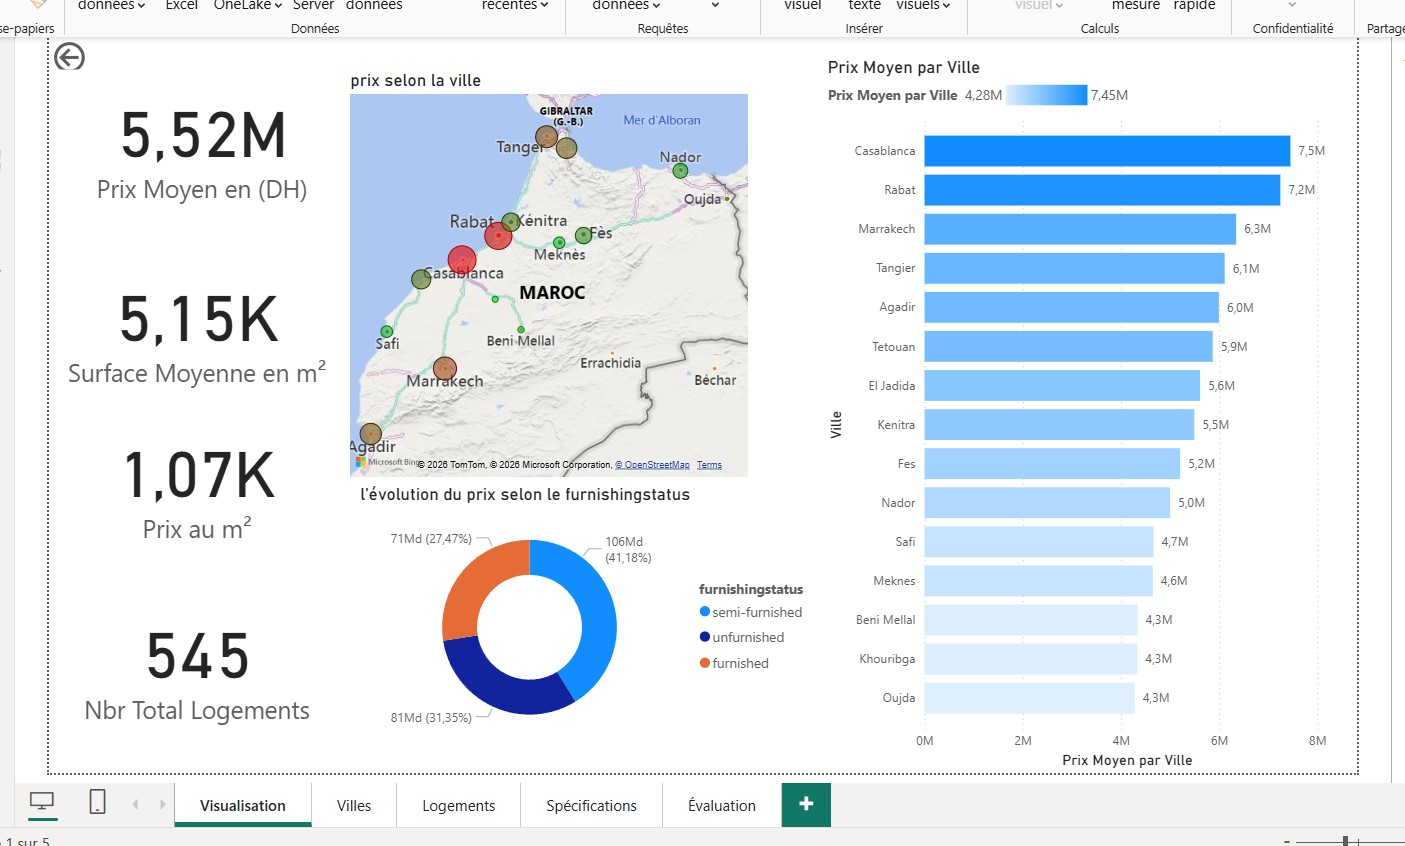

This screenshot's page, from the dashboard's own definition file:
{"tool":"powerbi","page":{"name":"Visualisation","canvas":[1280,720],"ordinal":0},"visuals":[{"type":"actionButton","box":[0,0,100,40],"z":0},{"type":"card","fields":{"Values":["Fact_Housing.Prix Moyen"]},"box":[0,31.8,299.6,141.8],"z":1000},{"type":"card","fields":{"Values":["Dim_Logement.Surface Moyenne m²"]},"box":[0,207.9,289.8,150.4],"z":2000},{"type":"card","fields":{"Values":["Measures (2).Prix au m²"]},"box":[0,360.7,289.8,150.4],"z":3000},{"type":"donutChart","title":"l''évolution du prix selon le furnishingstatus","fields":{"Category":["Dim_Logement.furnishingstatus"],"Y":["Sum(Fact_Housing.price)"]},"box":[299.6,436.6,457.3,262.9],"z":4000},{"type":"clusteredBarChart","title":"Prix Moyen par Ville ","fields":{"Category":["Dim_Ville.Ville"],"Y":["Dim_Ville.Prix Moyen par Ville"]},"box":[756.9,19.6,511.1,700.7],"z":5000},{"type":"card","fields":{"Values":["Dim_Logement.Nbr Total Logements"]},"box":[0,542.9,289.8,139.4],"z":6000},{"type":"map","title":"prix selon la ville ","fields":{"Category":["Dim_Ville.Ville"],"Size":["Dim_Ville.Prix Moyen par Ville"]},"box":[289.8,31.8,398.6,403.5],"z":7000}]}

Visuals, with their boxes on the page's 1280x720 design canvas (x1, y1, x2, y2). These are canvas units, not pixel positions in the 1405x846 screenshot, which may show the page scaled, cropped or inside an application window:
actionButton: 0, 0, 100, 40
card - Fact_Housing.Prix Moyen: 0, 32, 300, 174
card - Dim_Logement.Surface Moyenne m²: 0, 208, 290, 358
card - Measures (2).Prix au m²: 0, 361, 290, 511
"l''évolution du prix selon le furnishingstatus" donutChart: 300, 437, 757, 700
"Prix Moyen par Ville " clusteredBarChart: 757, 20, 1268, 720
card - Dim_Logement.Nbr Total Logements: 0, 543, 290, 682
"prix selon la ville " map: 290, 32, 688, 435
